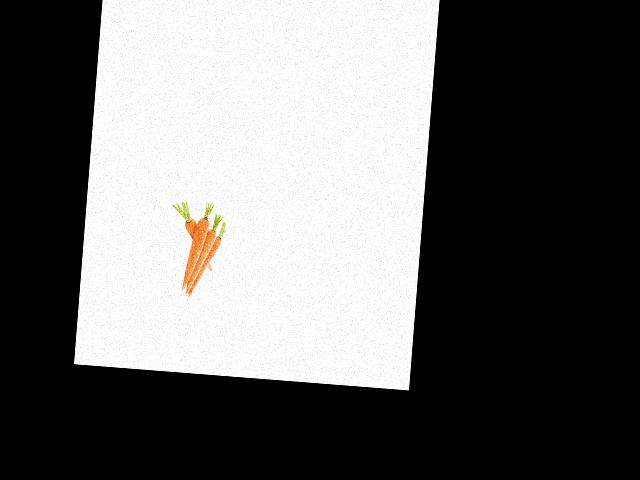carrot: (175, 208, 202, 242)
